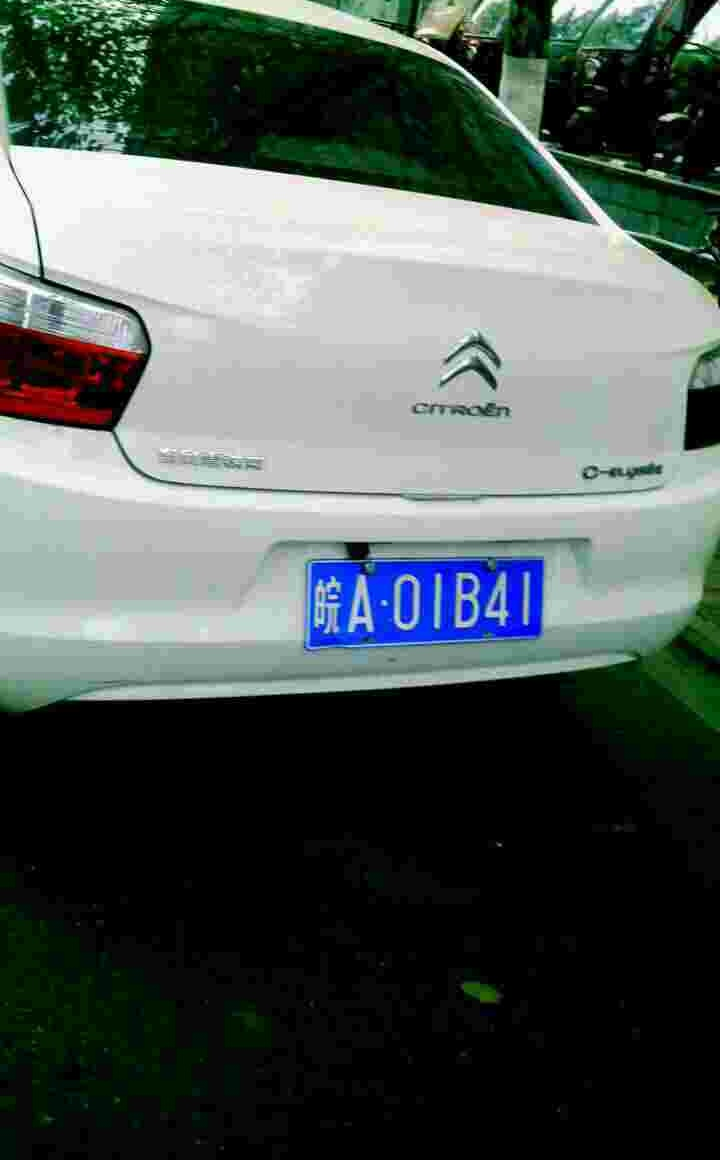plate: (311, 550, 555, 652)
